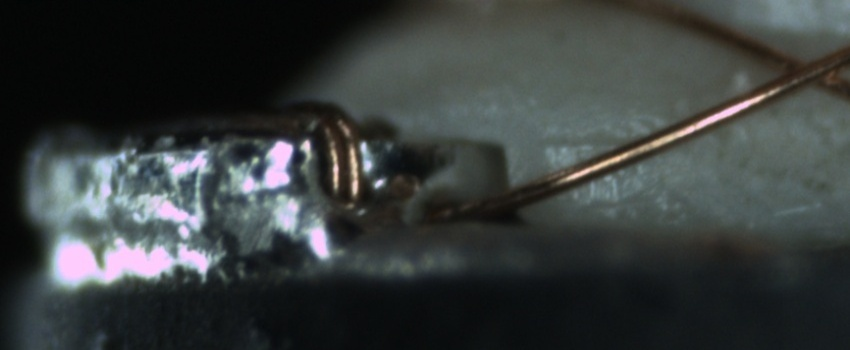CL: (753, 38, 846, 101)
DL: (536, 109, 670, 173)
TE: (300, 98, 368, 222)
